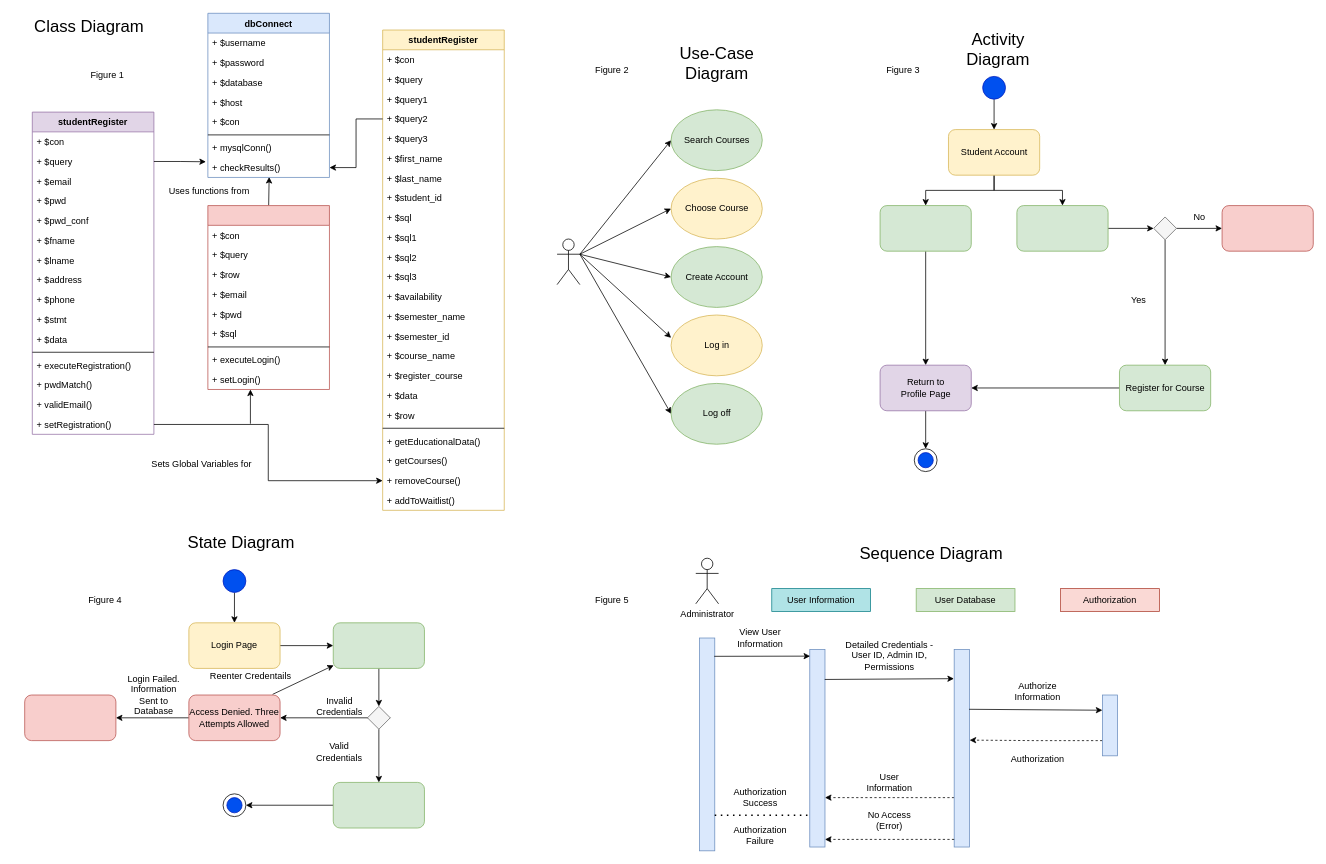
Image size: 1326x864. Some labels were removed from this diagram. The shapes that lost their labels are listed below. From the top down, each one's box as (x1, y1, x2, y2) in pixels, then its label:
(879, 205, 971, 251): Course Unavailable
(1016, 205, 1108, 251): Available Course
(1221, 205, 1313, 251): Unable to Register
(556, 238, 580, 285): User - Student
(207, 205, 329, 390): studentLogin
(332, 622, 424, 668): Enter Credentials
(24, 694, 116, 741): Account Locked After Three Attempts
(332, 782, 424, 828): Display Profile Page
